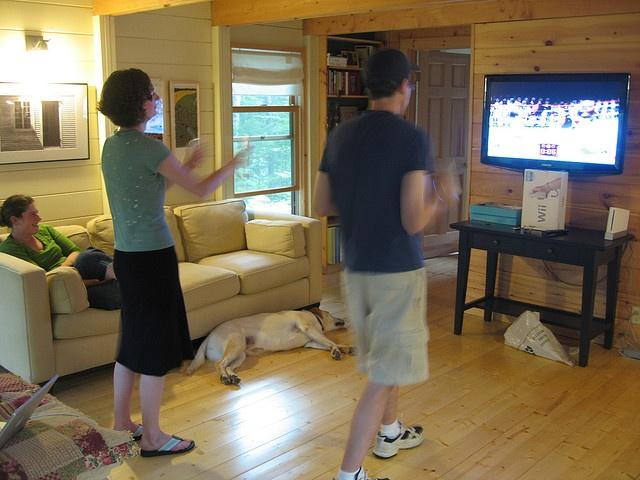AIO PC-Monitor-TV: (478, 71, 632, 177)
Meja: (447, 216, 635, 367)
